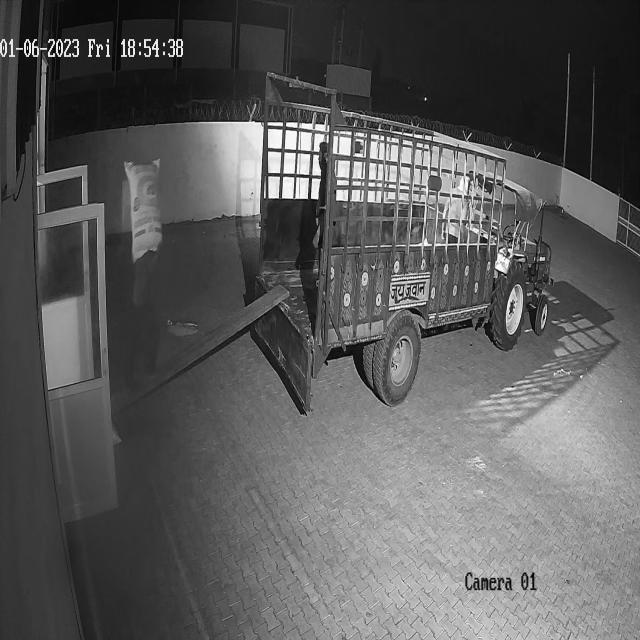sack: (124, 159, 162, 261)
